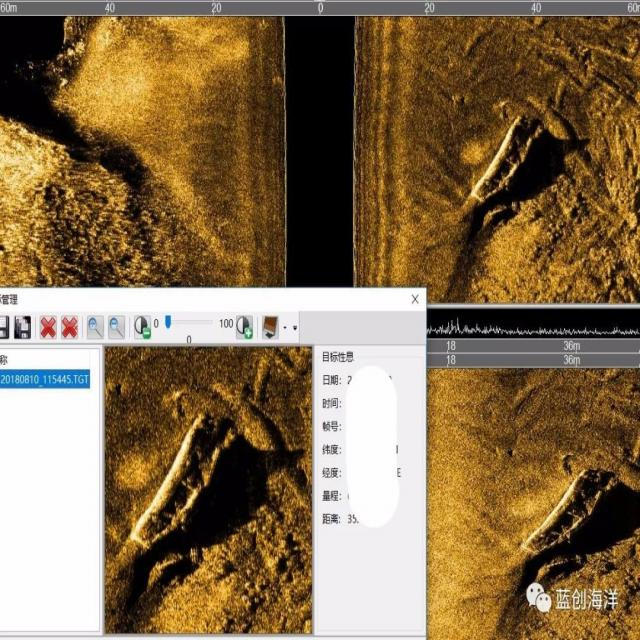ship: (129, 412, 242, 552), (515, 463, 623, 562), (468, 111, 544, 206)
